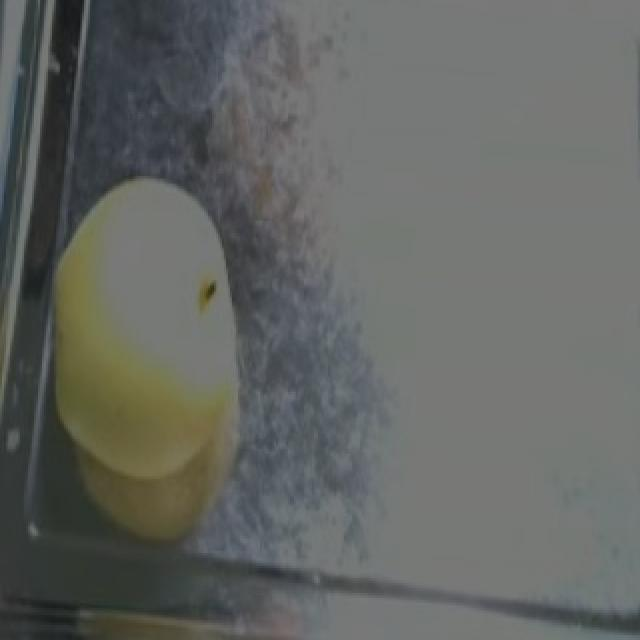Fruit: (14, 161, 264, 501), (36, 332, 260, 556)
